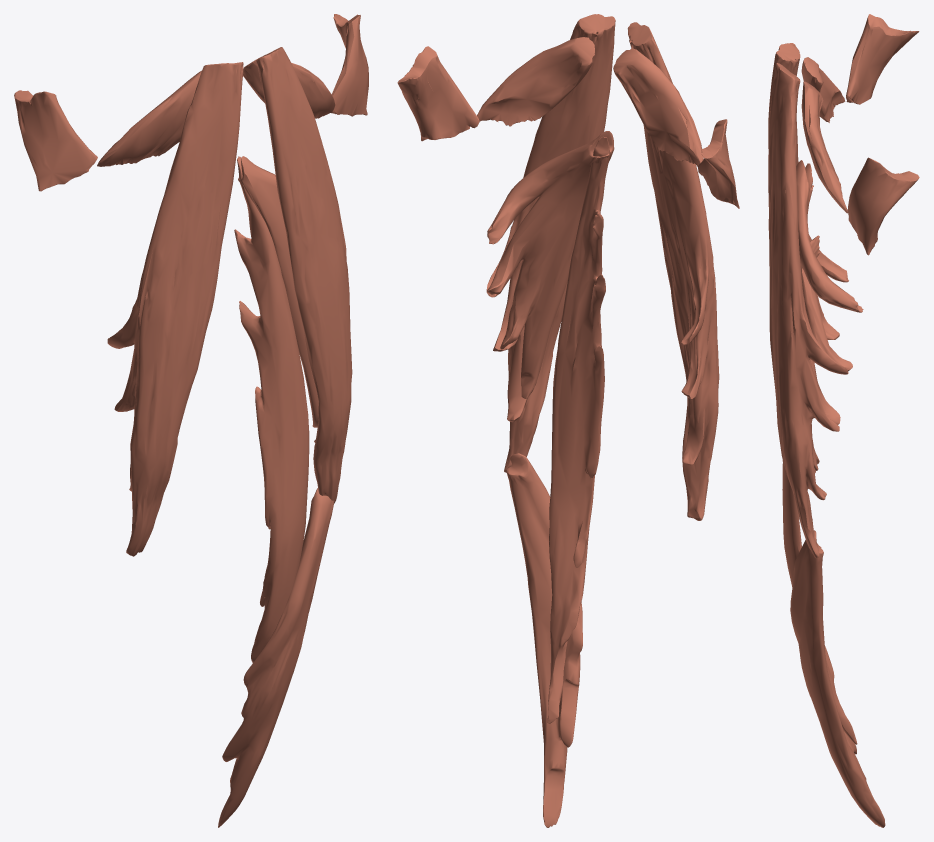
The model's file is prevertebral.glb.
3 renders of one model, left to right at view 1: azimuth 30°, elevation 25°; view 2: azimuth 150°, elevation 25°; view 3: azimuth 270°, elevation 25°, orthographic. The views are drawn at different scales.
Visible parts, largest first — view 1: grp1; view 2: grp1; view 3: grp1.
Boxes of the visible parts, x1,y1,x2,y2 form: grp1: (14, 14, 368, 827); grp1: (397, 14, 739, 827); grp1: (768, 14, 919, 827).
Size of the model in its own units: 0.0813 by 0.1849 by 0.0334.
